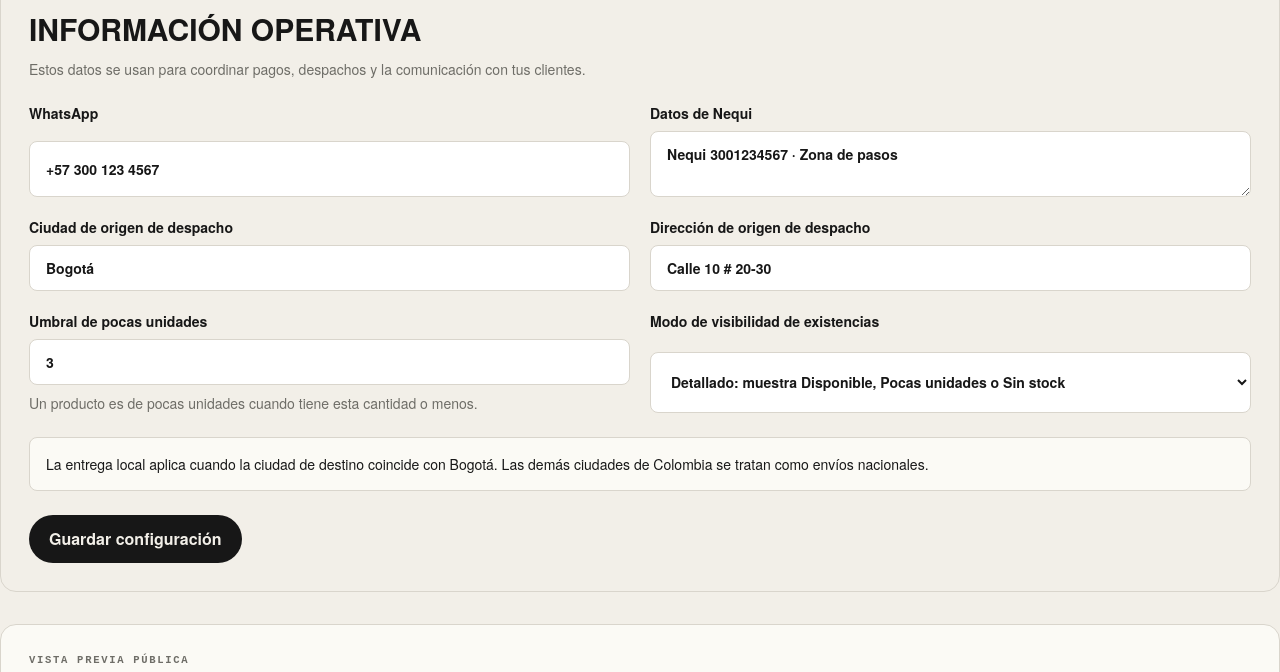
admin settings dashboard › previews detailed, availability-only, and hidden modes
The width and height of the screenshot is (1280, 672).
Expected: the field showing "+57 300 123 4567" is shown, [29,141,630,197]
Select "Solo disponibilidad: muestra disponible o no disponible" in the dropdown labelled "Modo de visibilidad de existencias" at (950, 382), box [650,352,1251,413]
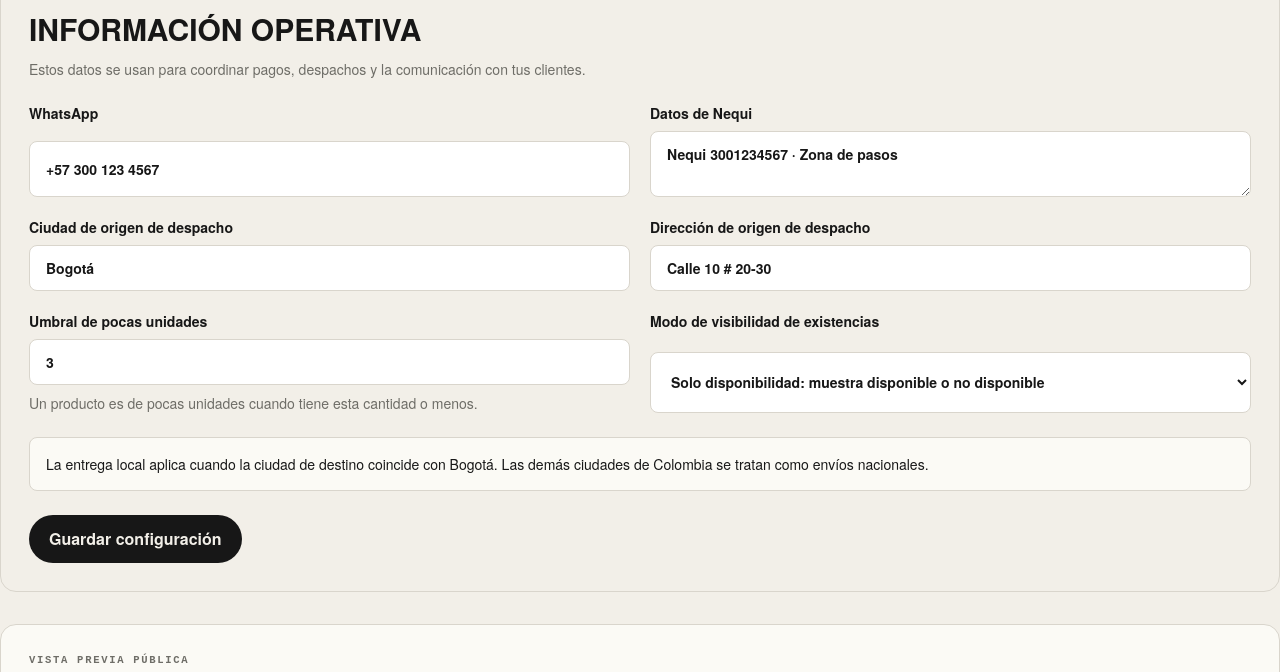
Select "Oculto: no muestra información de existencias" in the dropdown labelled "Modo de visibilidad de existencias" at (950, 382), box [650,352,1251,413]
(page scrolled)
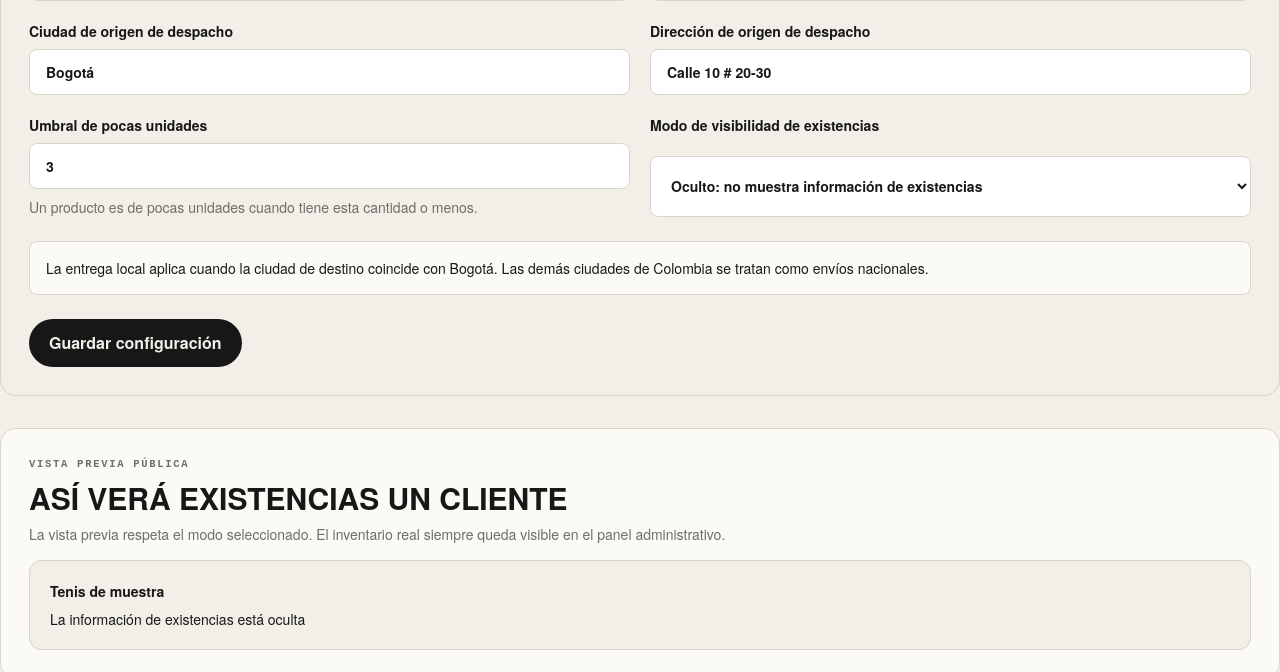
Now the element with test id "stock-preview-hidden" shows "La información de existencias está oculta", box [50,609,305,629]
